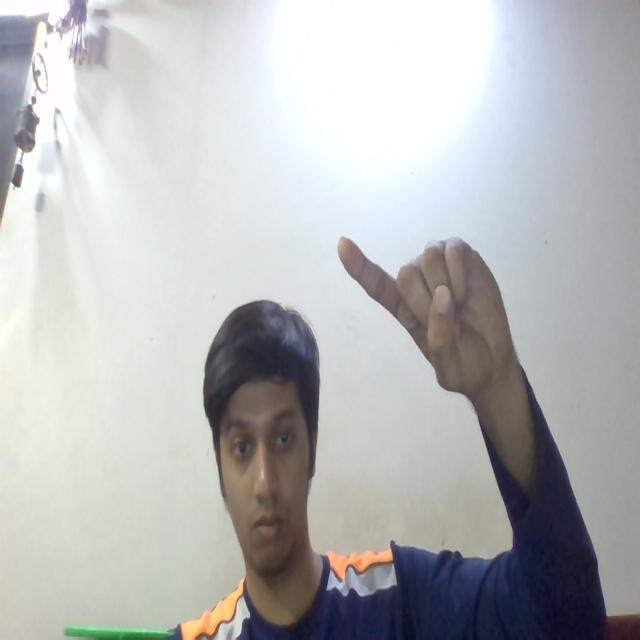Z: (325, 192, 530, 408)
